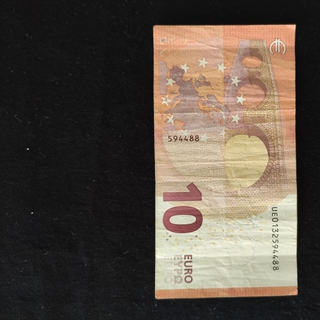10EUROBack: (152, 23, 299, 299)
